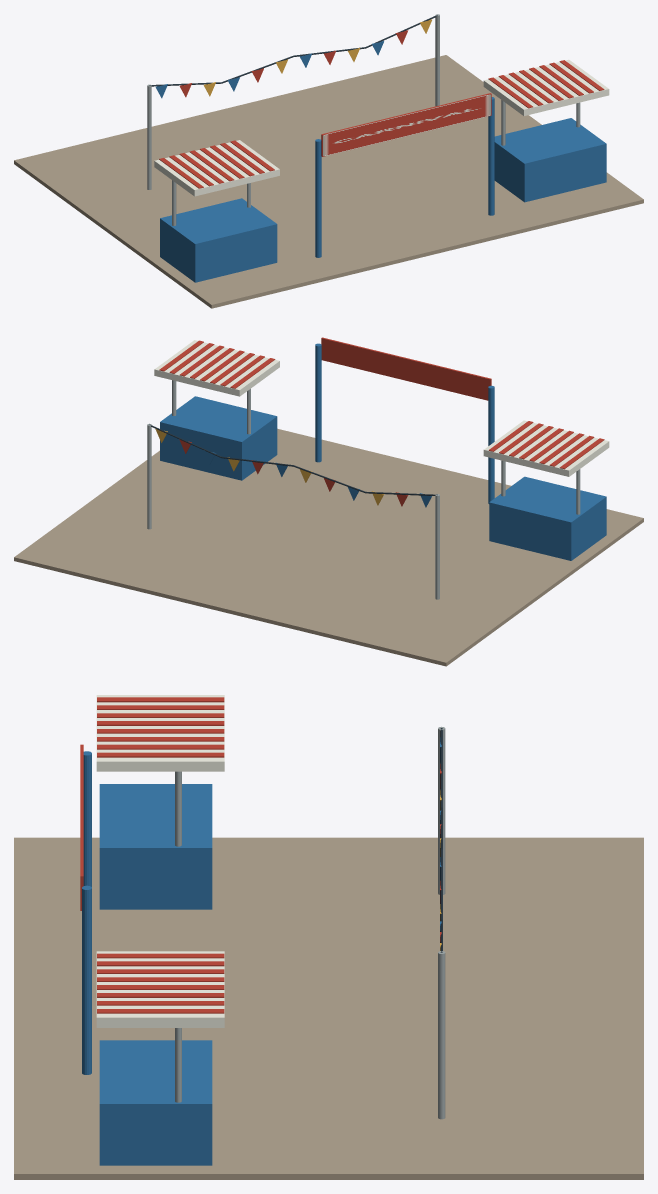
File: scendance-plan-carnival.glb
3 views of the same model, one above another, from view 1: azimuth 30°, elevation 25°; view 2: azimuth 150°, elevation 25°; view 3: azimuth 270°, elevation 25° (orthographic). The views are drawn at different scales.
Bounding box in the file's own units: 12 × 3.35 × 9.5.
Materials: 8 (1 with a texture image).
